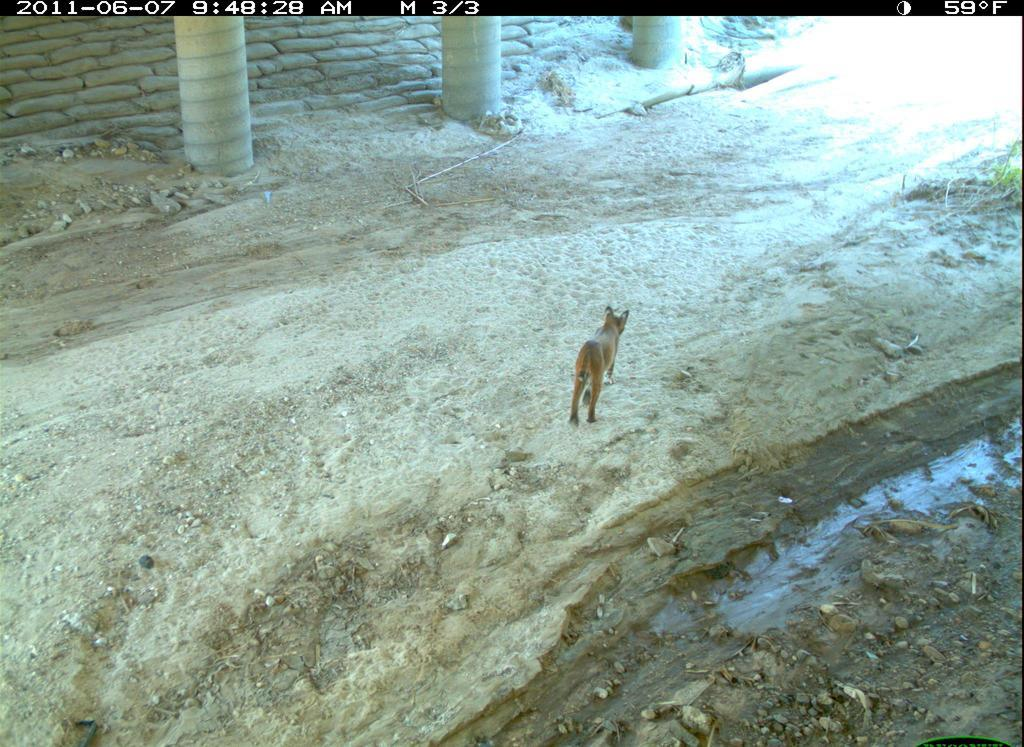bobcat: (560, 295, 639, 441)
